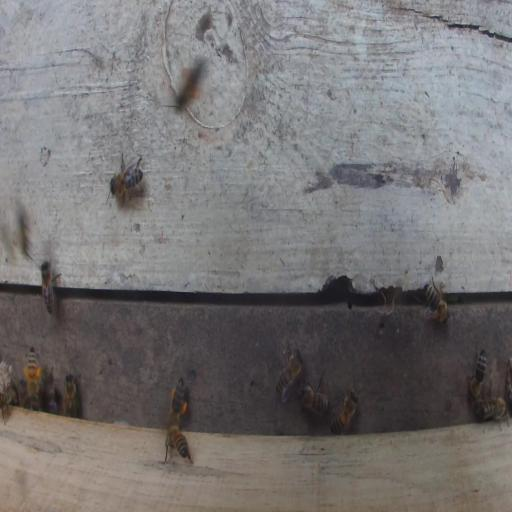nonpollenbee: (109, 154, 145, 206), (275, 346, 303, 403), (330, 387, 358, 435), (39, 258, 62, 316), (423, 276, 449, 325), (299, 376, 329, 415), (164, 426, 193, 465), (175, 65, 201, 108), (474, 395, 510, 426), (467, 347, 486, 401), (66, 372, 81, 419), (43, 369, 57, 413)
pollenbee: (23, 345, 41, 403), (169, 374, 188, 427)
